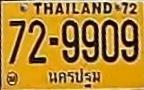0: (101, 19, 118, 61)
2: (28, 19, 46, 63)
7: (9, 20, 25, 63)
9: (120, 19, 138, 61), (61, 19, 78, 62), (81, 19, 98, 61)
NPT: (46, 66, 103, 89)
